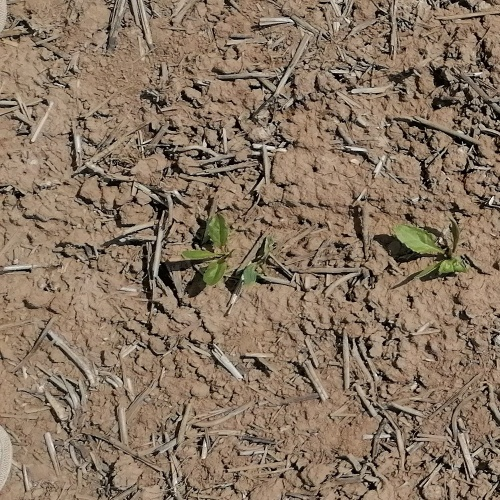beet: (392, 220, 466, 276), (183, 217, 230, 285)
